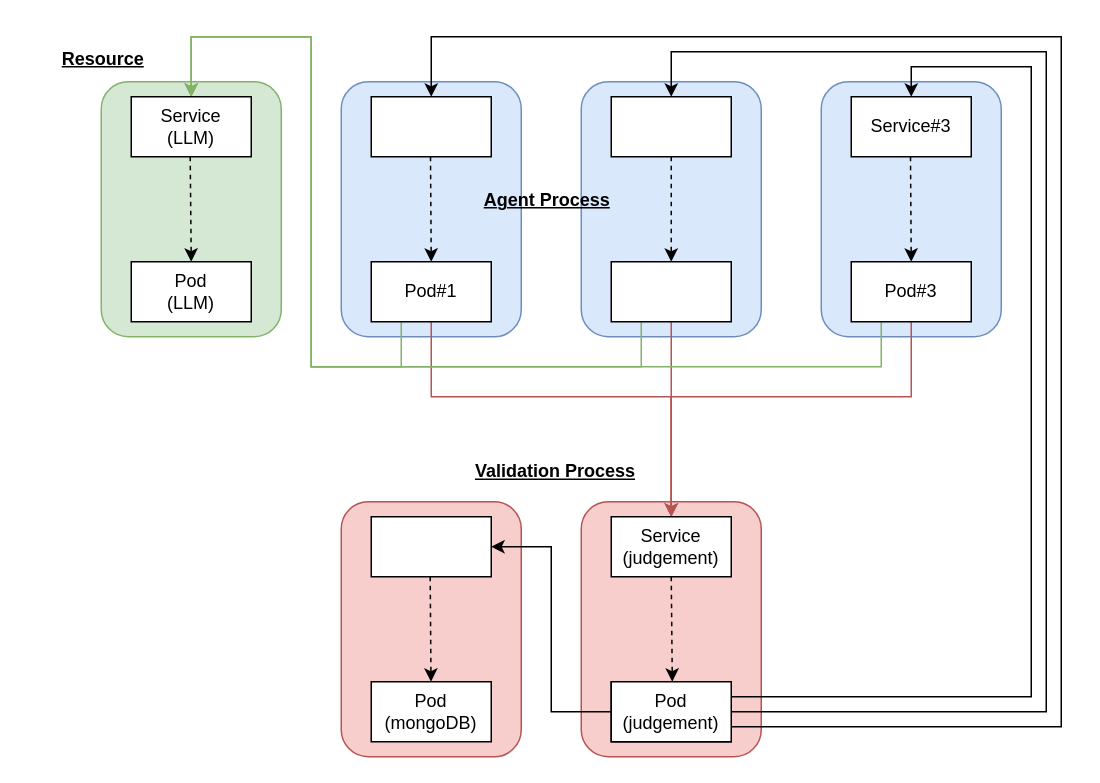
Some shapes in this 1100 by 783 pixel diagram are drawn without their labels. Here are the shapes that lost their labels. From the top down, the box of each, then its label:
(370, 95, 491, 157): Service#1
(610, 95, 731, 157): Service#2
(610, 260, 731, 322): Pod#2
(370, 515, 491, 577): Service (mongoDB)
